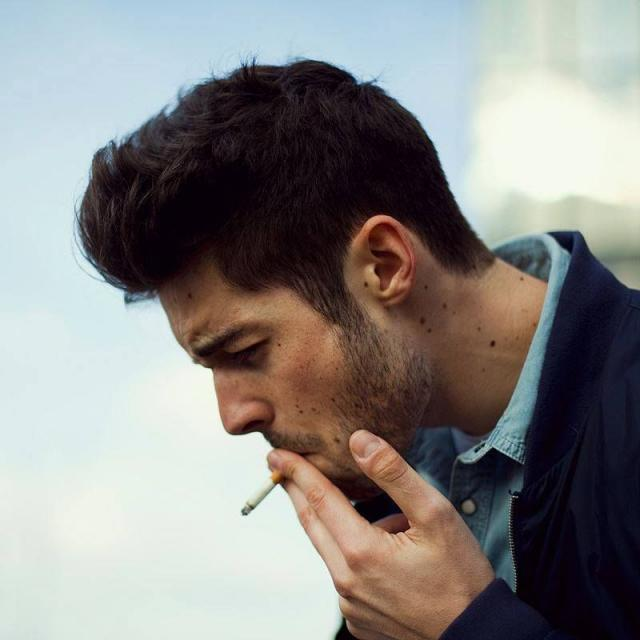smoke: (238, 463, 290, 523)
